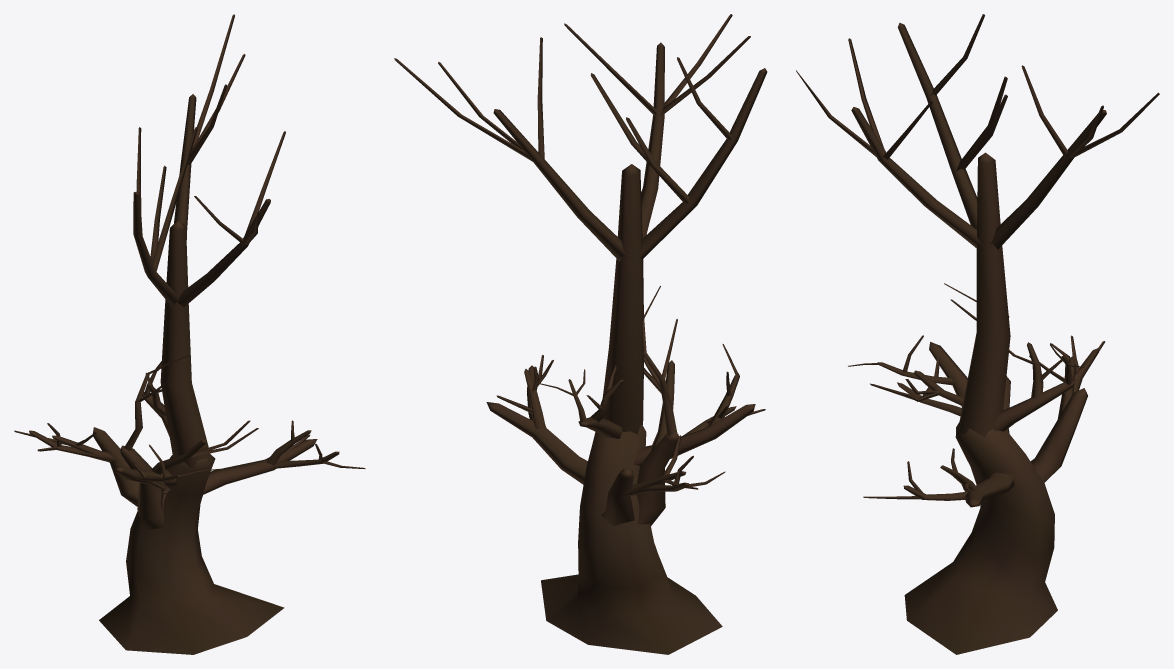
The model's file is tree-bare-gnarled-a.glb.
3 renders of one model, left to right at view 1: azimuth 30°, elevation 25°; view 2: azimuth 150°, elevation 25°; view 3: azimuth 270°, elevation 25°, orthographic. The views are drawn at different scales.
Parts seen in each view (by area): view 1: tree-bare-gnarled-a; view 2: tree-bare-gnarled-a; view 3: tree-bare-gnarled-a.
Part boxes in pixels (x1=…): tree-bare-gnarled-a: x1=14, y1=14, x2=365, y2=654; tree-bare-gnarled-a: x1=394, y1=14, x2=767, y2=654; tree-bare-gnarled-a: x1=796, y1=14, x2=1159, y2=654.
Size of the model in its own units: 0.8376 by 1.7 by 0.9553.
